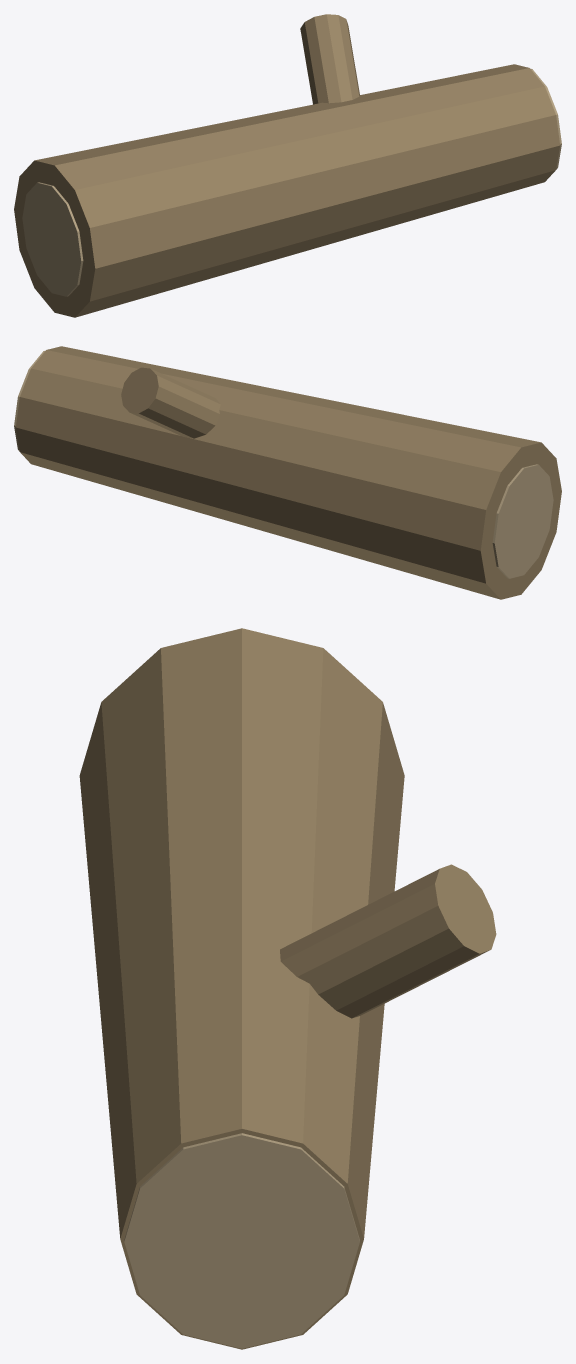
File: Fallen_Log_Barren.glb
3 renders of one model, top to bottom at view 1: azimuth 30°, elevation 25°; view 2: azimuth 150°, elevation 25°; view 3: azimuth 270°, elevation 25°, orthographic. The views are drawn at different scales.
Visible parts, largest first — view 1: Structure; view 2: Structure; view 3: Structure.
Part boxes in pixels (<box>): Structure: <box>14,14,561,317</box>; Structure: <box>14,346,561,599</box>; Structure: <box>79,628,496,1349</box>.
Size of the model in its own units: 2.73 by 0.9991 by 1.03.
